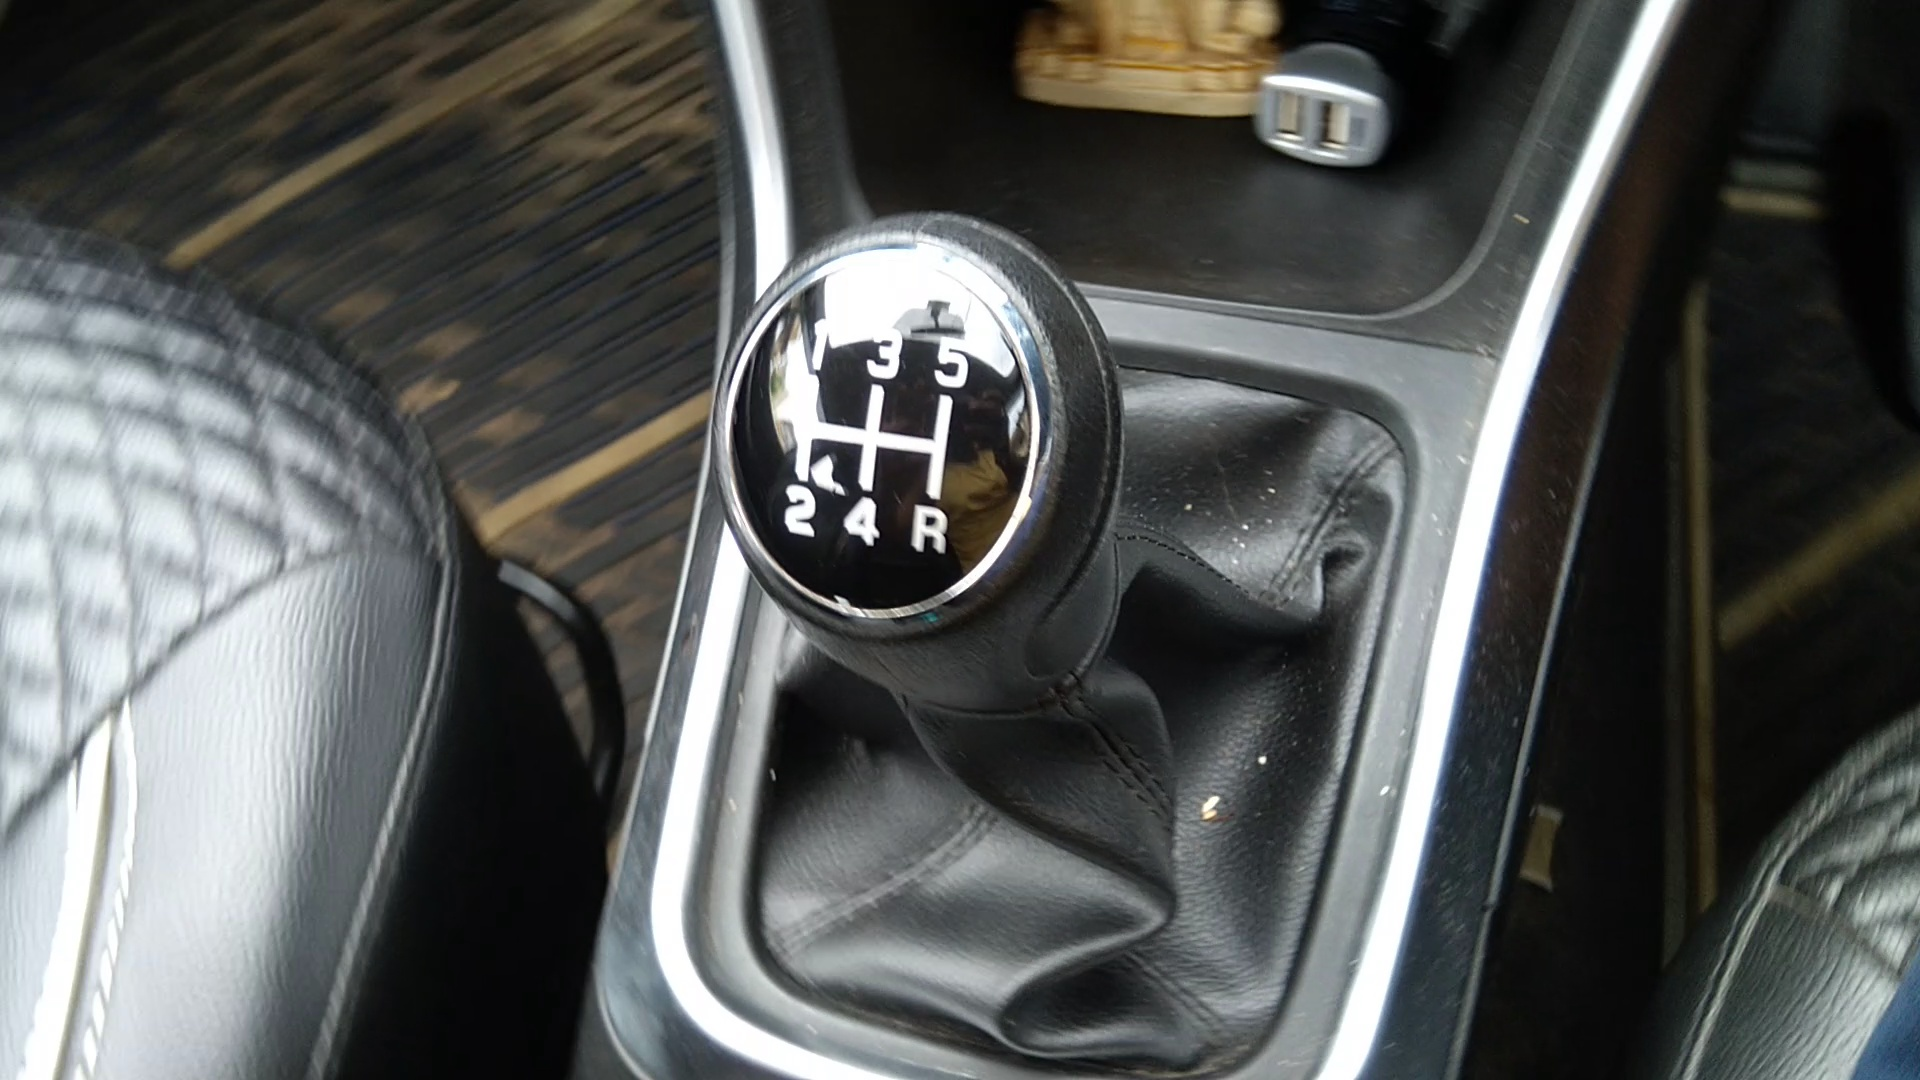manual_gear: (709, 215, 1126, 702)
